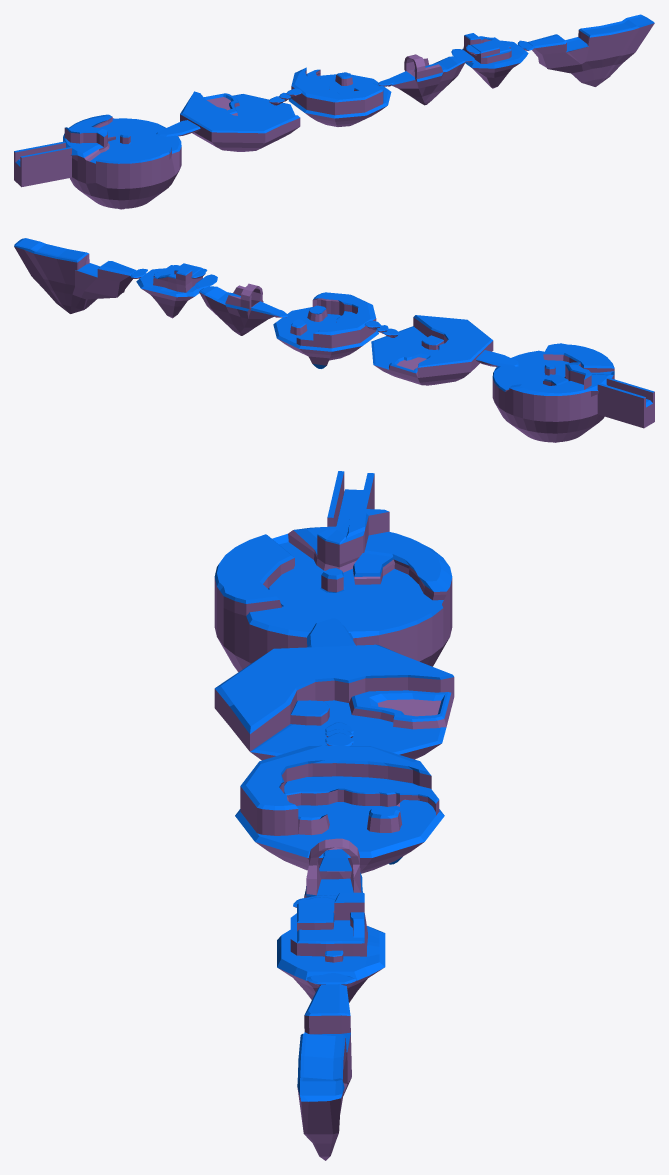
File: LaneForMap4.fbx
3 renders of one model, top to bottom at view 1: azimuth 30°, elevation 25°; view 2: azimuth 150°, elevation 25°; view 3: azimuth 270°, elevation 25°, orthographic. The views are drawn at different scales.
Parts seen in each view (by area): view 1: Lane7, Lane6, Lane1, Lane5, Lane4, Lane2and3_3, Lane6to7; view 2: Lane7, Lane6, Lane5, Lane1, Lane4, Lane2and3_3, Lane6to7; view 3: Lane7, Lane6, Lane5, Lane2and3_3, Lane1, Lane4, Lane6to7.
Part boxes in pixels (x1,y1,x2,y2): Lane7: (14, 114, 181, 209); Lane6: (180, 91, 300, 151); Lane1: (527, 14, 654, 86); Lane5: (289, 67, 391, 126); Lane4: (390, 54, 465, 105); Lane2and3_3: (462, 33, 528, 88); Lane6to7: (156, 120, 200, 136); Lane7: (492, 343, 654, 442); Lane6: (371, 315, 493, 385); Lane5: (273, 292, 378, 368); Lane1: (14, 238, 136, 313); Lane4: (199, 283, 278, 335); Lane2and3_3: (136, 263, 202, 318); Lane6to7: (476, 350, 518, 366); Lane7: (214, 471, 452, 671); Lane6: (214, 644, 454, 760); Lane5: (235, 745, 444, 873); Lane2and3_3: (277, 892, 385, 1002); Lane1: (297, 984, 351, 1160); Lane4: (304, 838, 362, 897); Lane6to7: (307, 618, 355, 647).
Size of the model in its own units: 789 by 101 by 131.
